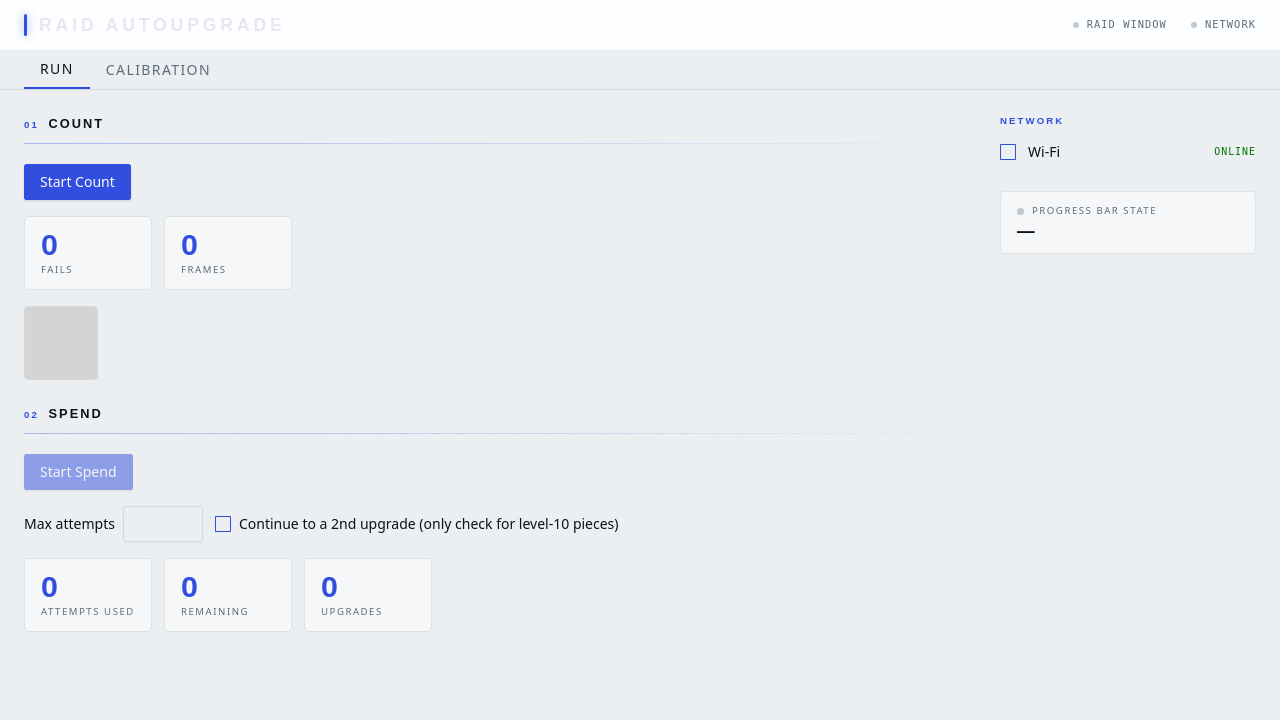
App › switches back to Run panel when Run tab is clicked after Calibration
Click the tab "Calibration". click: (158, 70)
box: [90,51,227,89]
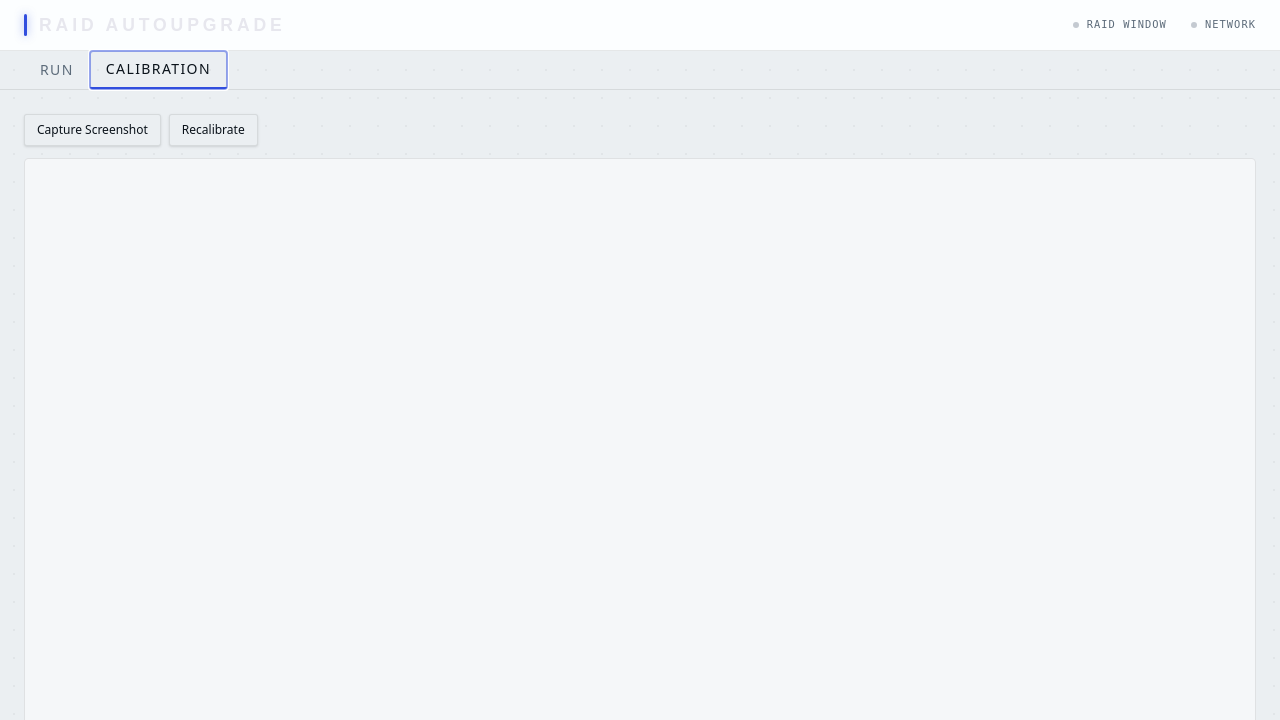
Click the tab "Run". click: (57, 70)
box: [24,51,90,89]
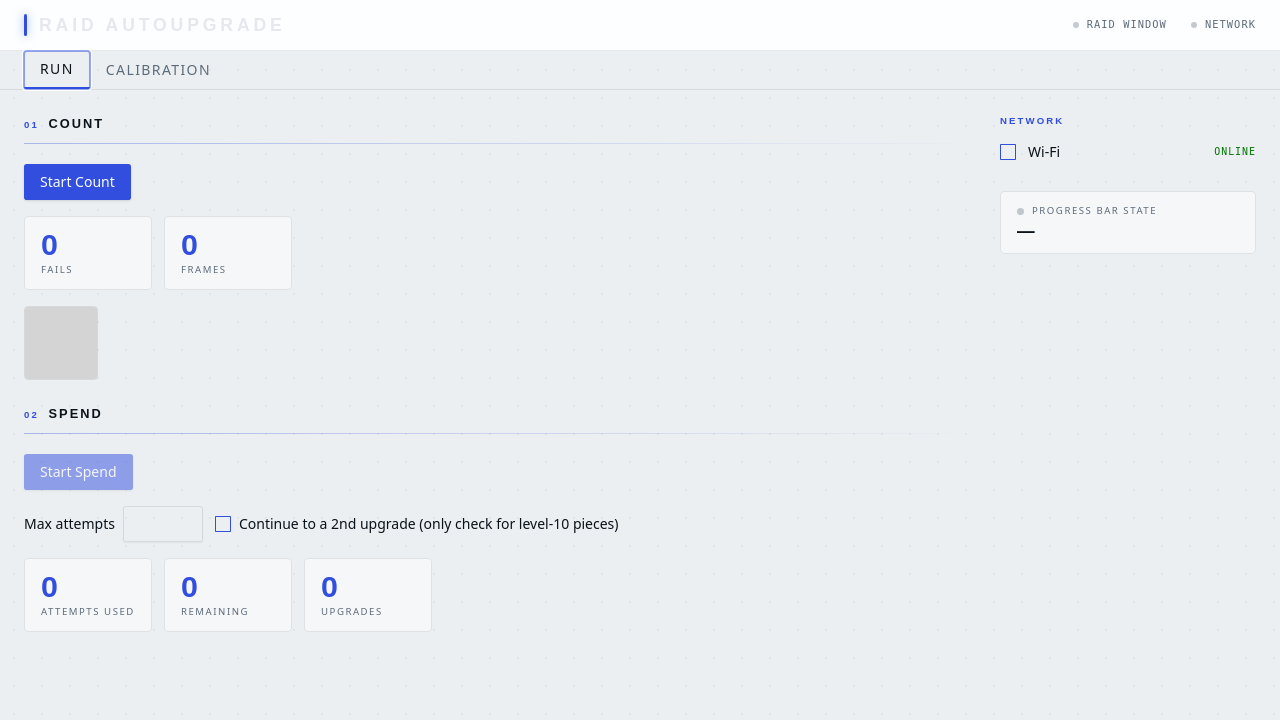
Expected: the panel named "Run" is shown
